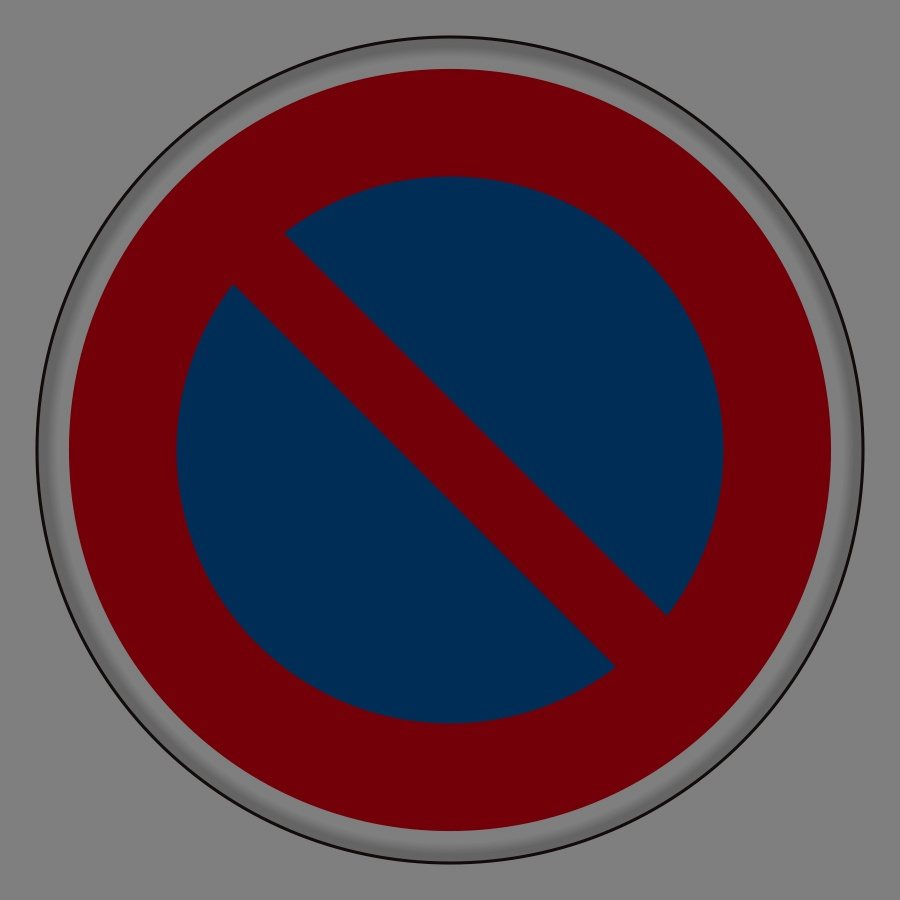Prohibition_sign: (7, 2, 889, 889)
